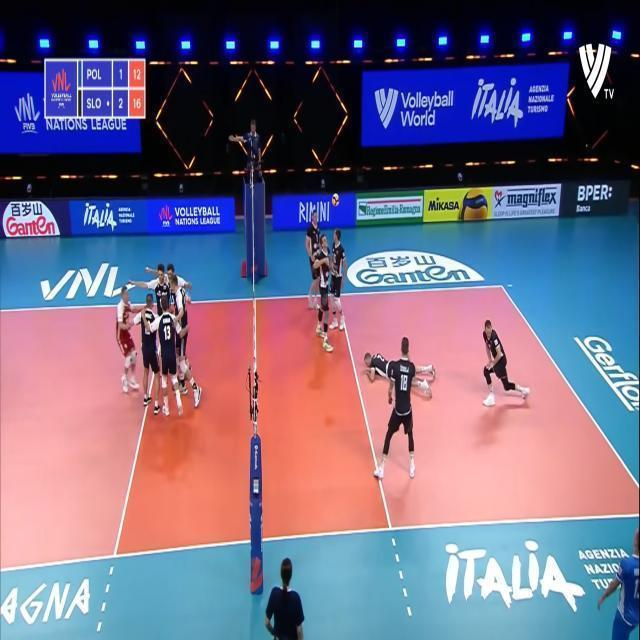volleyball: (332, 194, 339, 206)
